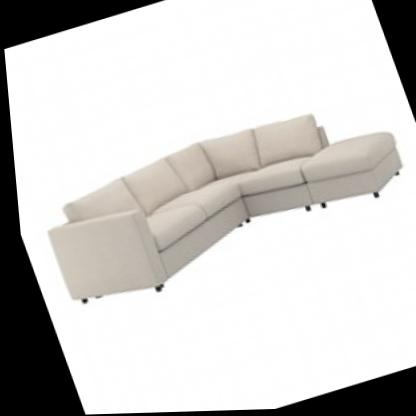Sofa: (7, 71, 416, 321)
